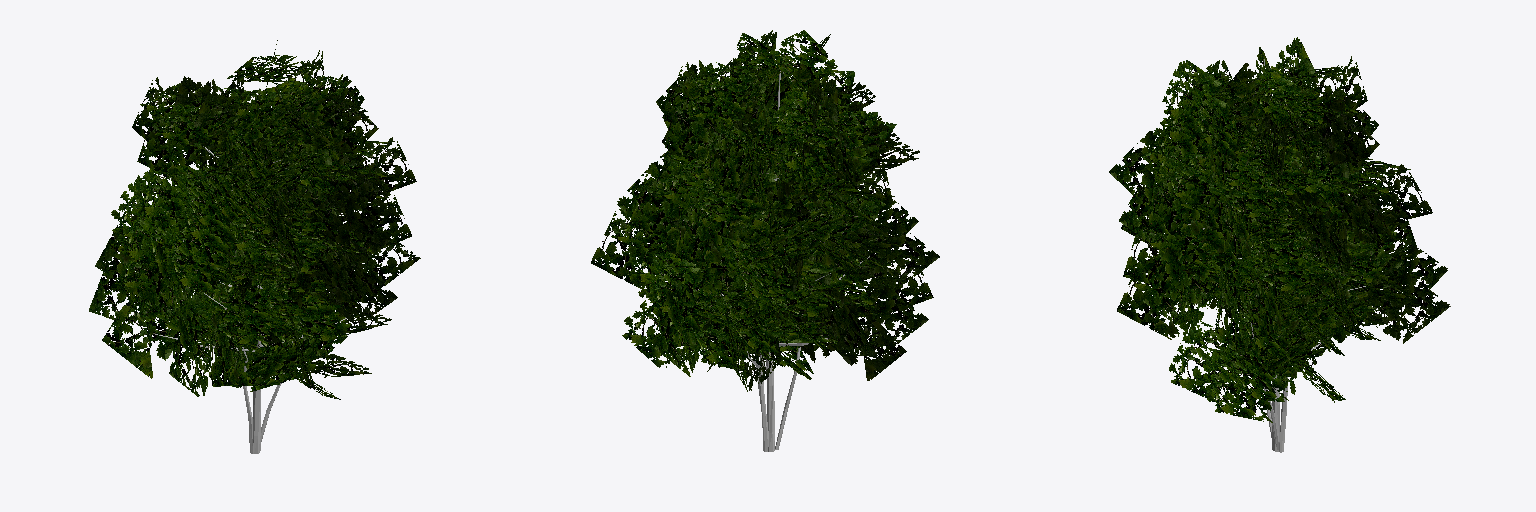
The picture shows the model from 3 angles: view 1: azimuth 30°, elevation 25°; view 2: azimuth 150°, elevation 25°; view 3: azimuth 270°, elevation 25°; orthographic projection.
Visible parts, largest first — view 1: 3D_Object_3, 3D_Object_10; view 2: 3D_Object_3, 3D_Object_10; view 3: 3D_Object_3, 3D_Object_10.
Boxes of the visible parts, box(x1,y1,x2,y2) form: 3D_Object_3: box(89, 40, 420, 399); 3D_Object_10: box(155, 88, 353, 453); 3D_Object_3: box(591, 30, 939, 391); 3D_Object_10: box(698, 71, 884, 451); 3D_Object_3: box(1109, 37, 1450, 422); 3D_Object_10: box(1188, 59, 1365, 452).
Size of the model in its own units: 414 by 526 by 419.
Materials: 2 (1 with a texture image).